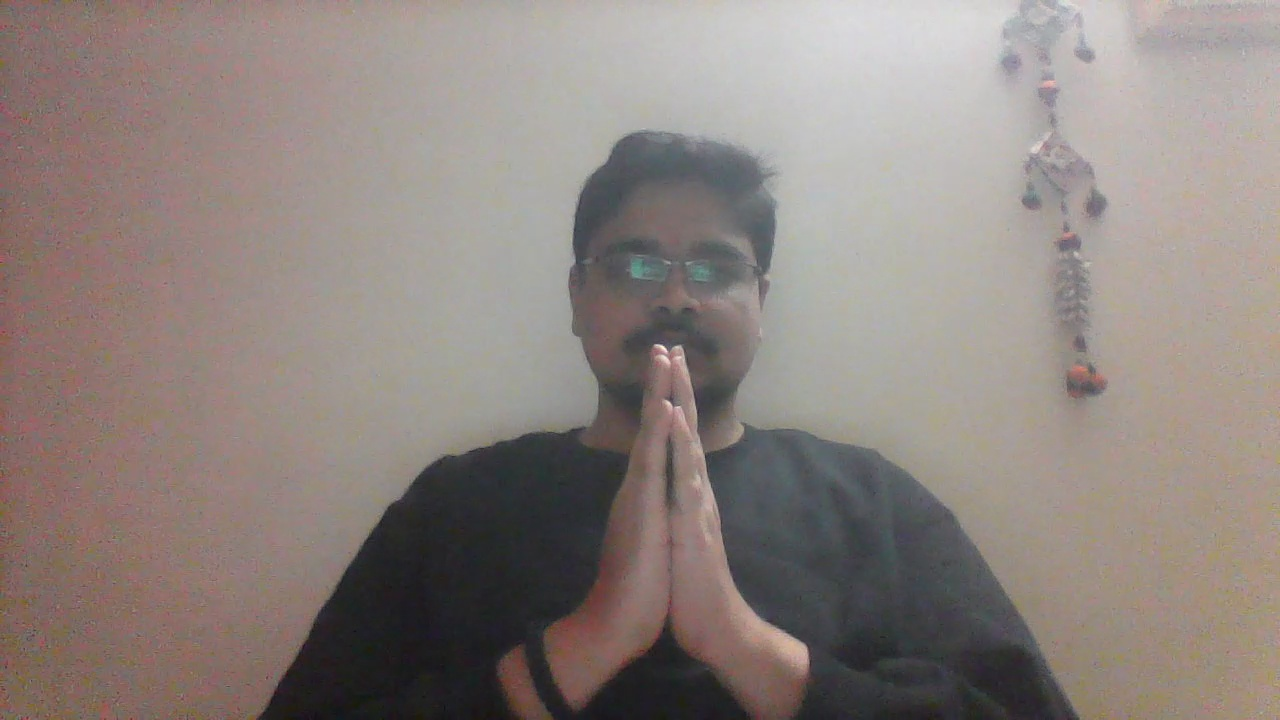Namaste: (563, 340, 794, 702)
